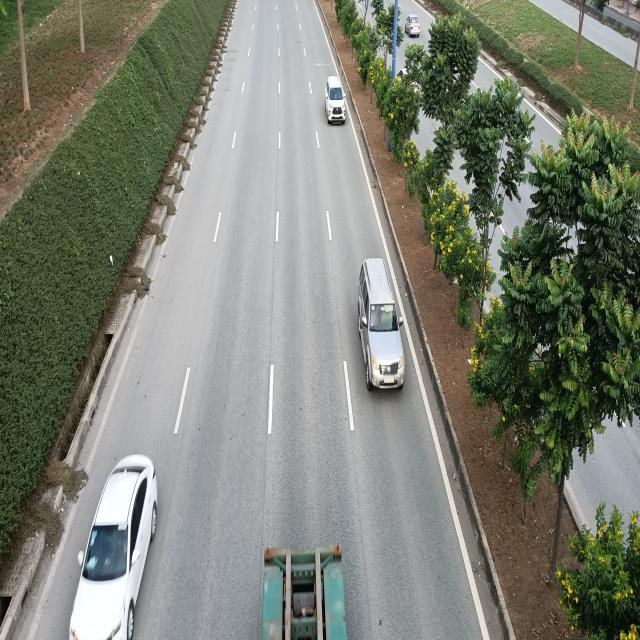car: (73, 459, 162, 640), (357, 260, 403, 393), (326, 77, 348, 124)
